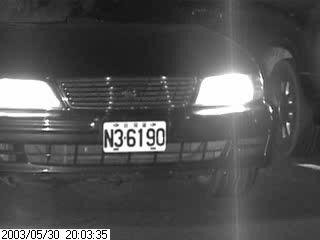plate: (102, 120, 169, 153)
